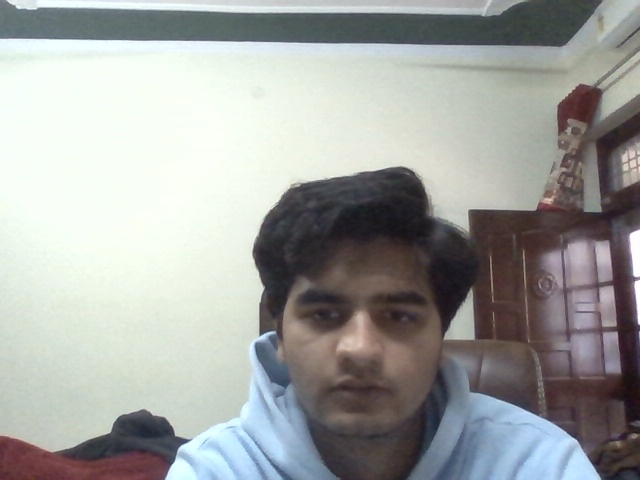fear: (294, 258, 431, 417)
